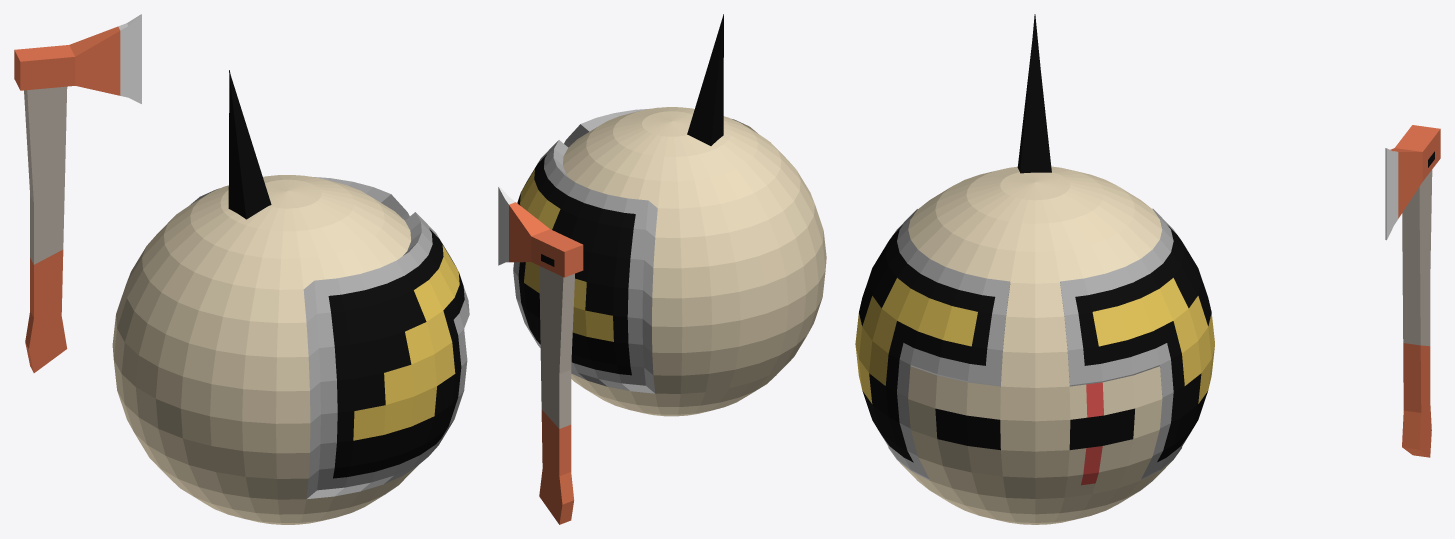
File: MONSTER-03.fbx
The picture shows the model from 3 angles, left to right: view 1: azimuth 30°, elevation 25°; view 2: azimuth 150°, elevation 25°; view 3: azimuth 270°, elevation 25°; orthographic projection. The views are drawn at different scales.
Visible parts, largest first — view 1: Sphere, Cube; view 2: Sphere, Cube; view 3: Sphere, Cube.
Part boxes in pixels (x1,y1,x2,y2): Sphere: (112, 70, 469, 524); Cube: (14, 14, 141, 372); Sphere: (513, 14, 826, 416); Cube: (498, 186, 583, 524); Sphere: (855, 14, 1214, 524); Cube: (1385, 125, 1440, 457).
Bounding box in the file's own units: 203 × 285 × 325.
